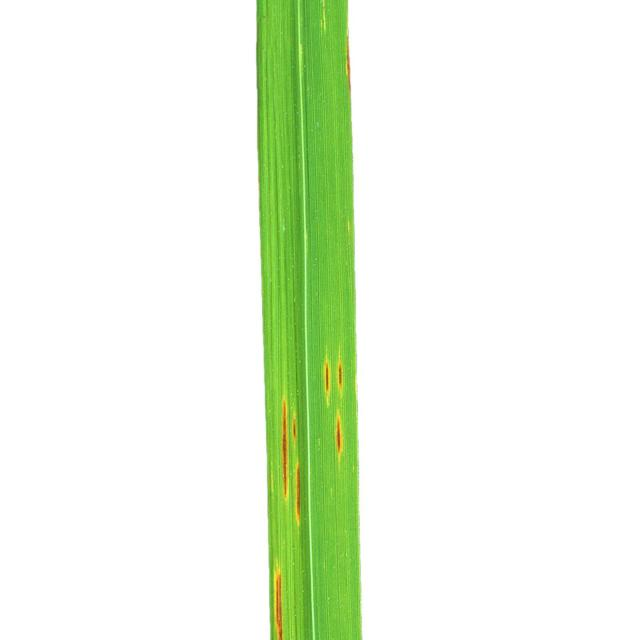Narrow brown: (226, 3, 459, 640)
